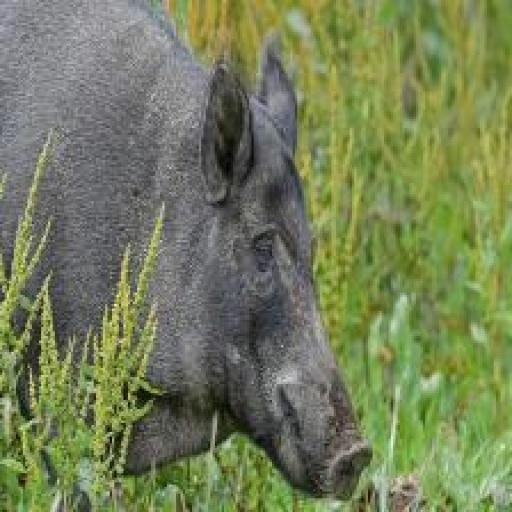Pig: (2, 0, 374, 504)
